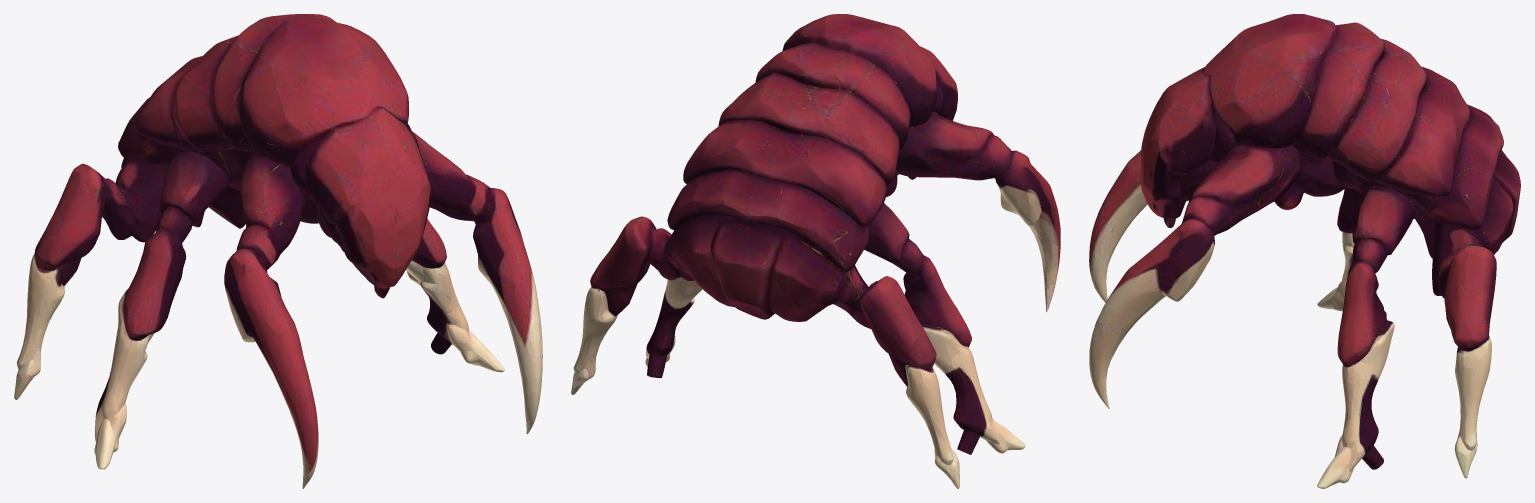
Rendered from enemy.gltf.
3 views of the same model, side by side, from view 1: azimuth 30°, elevation 25°; view 2: azimuth 150°, elevation 25°; view 3: azimuth 270°, elevation 25° (orthographic). The views are drawn at different scales.
Bounding box in the file's own units: 1.9 × 1.73 × 1.82.
Materials: 1 (1 with a texture image).
